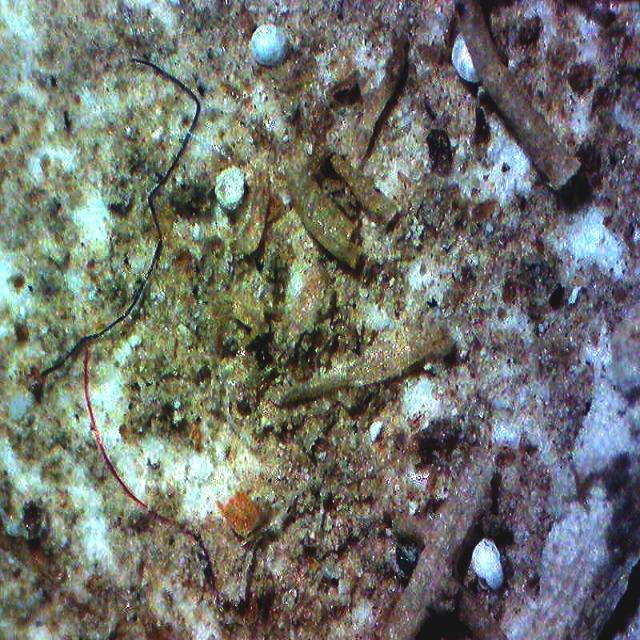microplastic: (29, 55, 210, 416), (50, 348, 227, 606)
